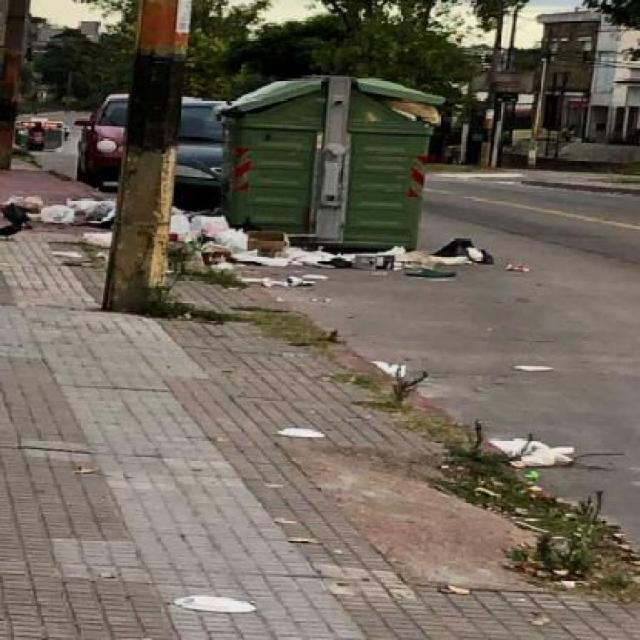garbage: (179, 213, 546, 306), (180, 206, 341, 249), (491, 345, 600, 399), (0, 183, 120, 232), (491, 423, 570, 490), (156, 578, 270, 624), (360, 348, 439, 406), (48, 231, 114, 288), (277, 422, 326, 450)
